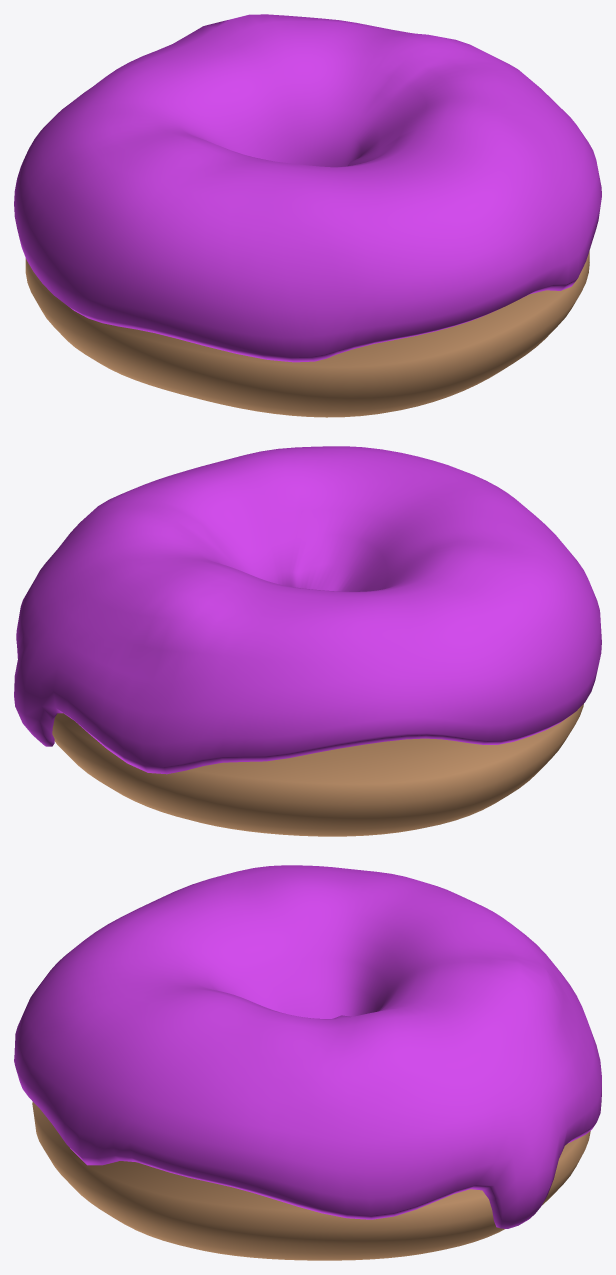
Rendered from Doughnut.glb.
3 views of the same model, one above another, from view 1: azimuth 30°, elevation 25°; view 2: azimuth 150°, elevation 25°; view 3: azimuth 270°, elevation 25° (orthographic). The views are drawn at different scales.
Visible parts, largest first — view 1: Icing, Donut; view 2: Icing, Donut; view 3: Icing, Donut.
Boxes of the visible parts, box(x1,y1,x2,y2) form: Icing: box(14, 14, 601, 362); Donut: box(25, 251, 589, 417); Icing: box(14, 446, 601, 774); Donut: box(52, 704, 583, 836); Icing: box(14, 865, 601, 1228); Donut: box(32, 1102, 590, 1260).
Size of what is drawn, in the model's own units: 0.1021 by 0.045 by 0.1002.
